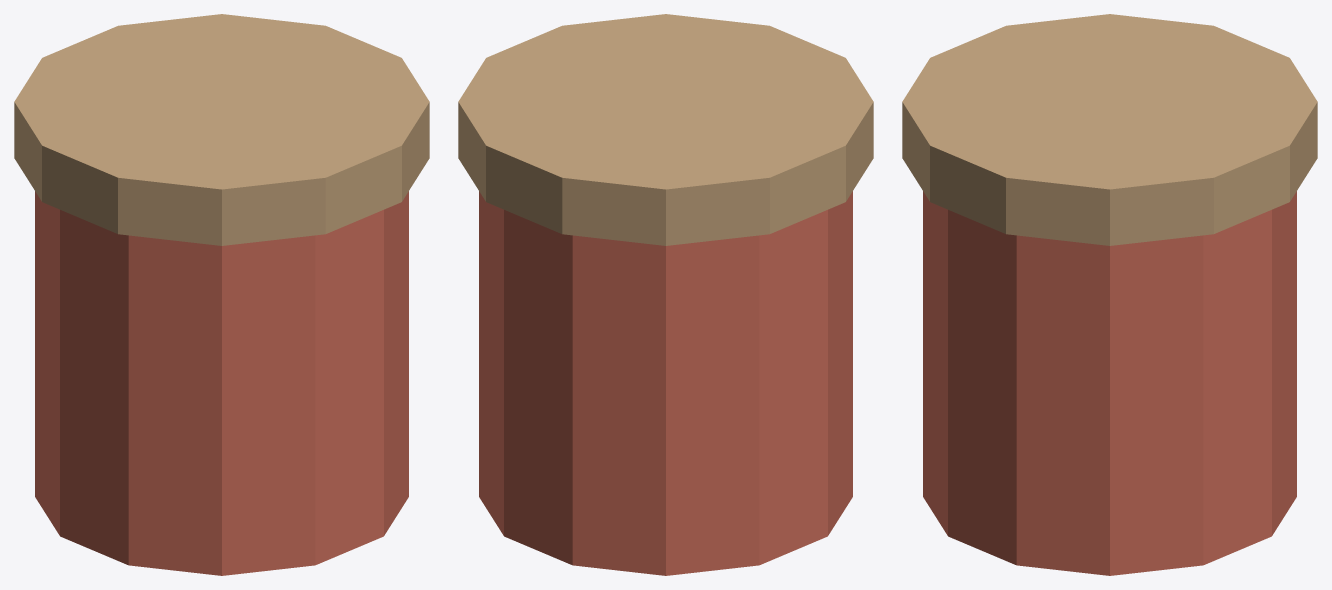
The model's file is supermarket-operations-jam-jar-1c53483d__26846.glb.
3 views of the same model, side by side, from view 1: azimuth 30°, elevation 25°; view 2: azimuth 150°, elevation 25°; view 3: azimuth 270°, elevation 25° (orthographic).
Visible parts, largest first — view 1: jam-jar; view 2: jam-jar; view 3: jam-jar.
Part boxes in pixels (x1,y1,x2,y2): jam-jar: [14, 14, 429, 575]; jam-jar: [458, 14, 873, 575]; jam-jar: [902, 14, 1317, 575].
Bounding box in the file's own units: 0.1 × 0.105 × 0.1.
